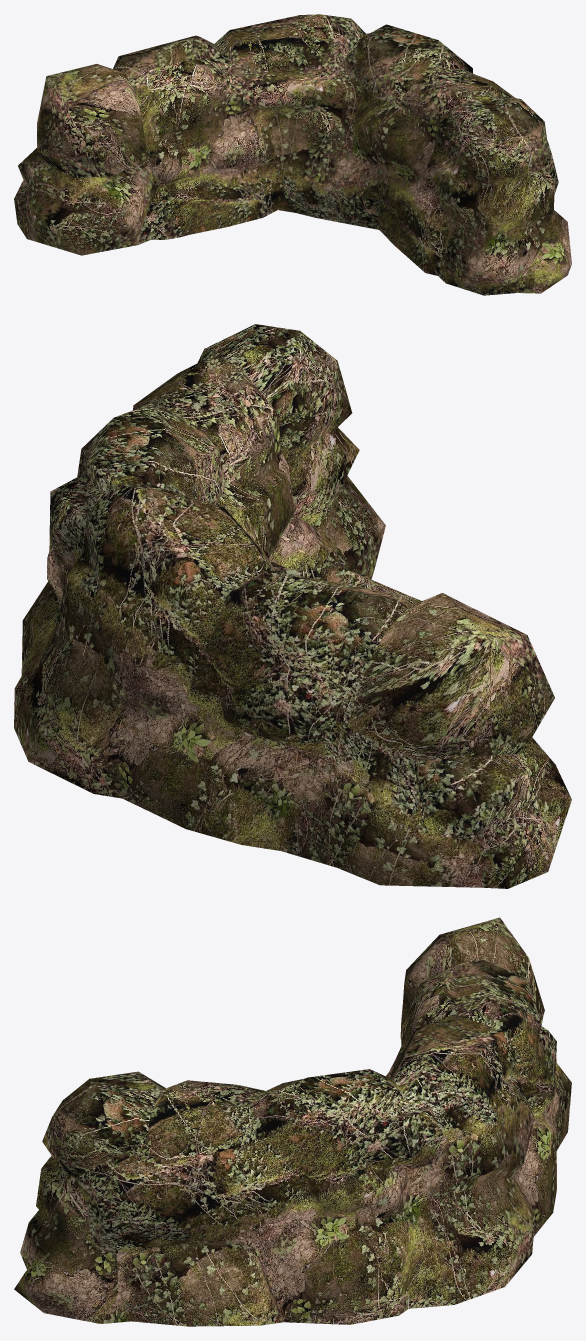
The model's file is KM_STONEWALL_1_CUR.glb.
3 views of the same model, one above another, from view 1: azimuth 30°, elevation 25°; view 2: azimuth 150°, elevation 25°; view 3: azimuth 270°, elevation 25° (orthographic). The views are drawn at different scales.
Parts seen in each view (by area): view 1: Mesh; view 2: Mesh; view 3: Mesh.
Part boxes in pixels (x1,y1,x2,y2): Mesh: (14,14,571,295); Mesh: (14,324,571,888); Mesh: (14,917,571,1326).
Size of the model in its own units: 2.71 by 1.11 by 2.67.
1 material, 1 textured.
